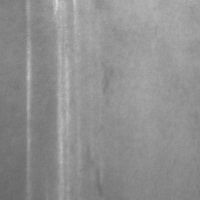scratches: (54, 5, 74, 192), (23, 1, 36, 192)
